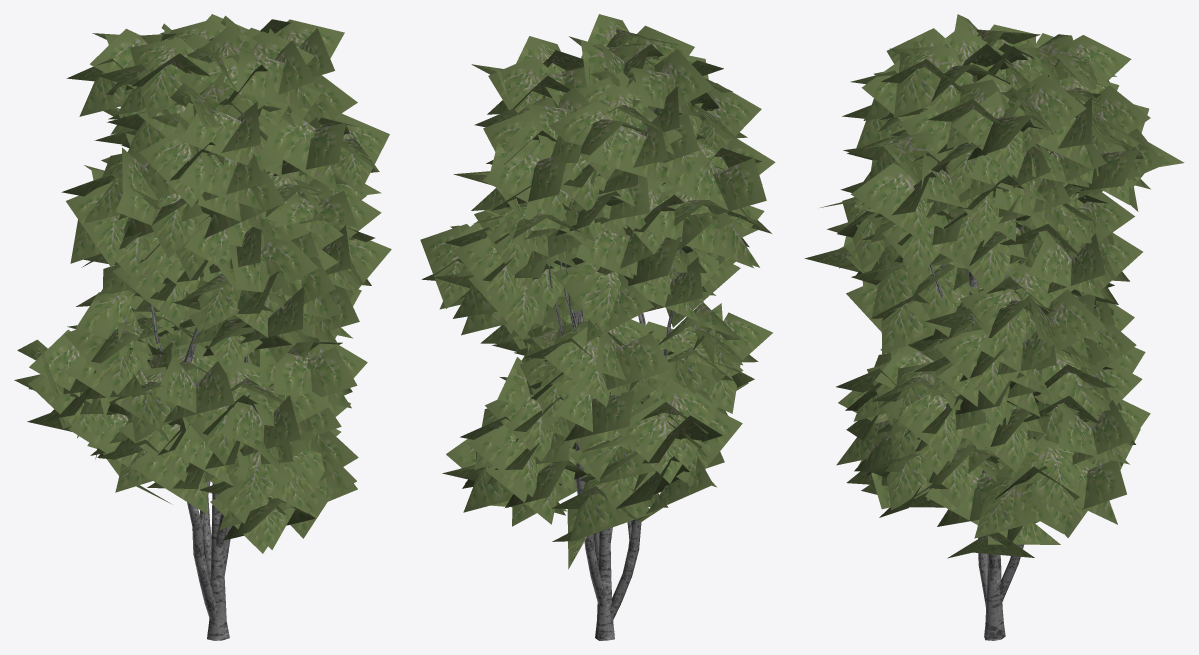
Rendered from Betula_Papyrifera_Spring_Adult.glb.
The picture shows the model from 3 angles, left to right: view 1: azimuth 30°, elevation 25°; view 2: azimuth 150°, elevation 25°; view 3: azimuth 270°, elevation 25°; orthographic projection. The views are drawn at different scales.
Parts seen in each view (by area): view 1: Betula_Papyrifera_Spring_Adult__LOD3; view 2: Betula_Papyrifera_Spring_Adult__LOD3; view 3: Betula_Papyrifera_Spring_Adult__LOD3.
Boxes of the visible parts, x1,y1,x2,y2 form: Betula_Papyrifera_Spring_Adult__LOD3: (14,14,391,640); Betula_Papyrifera_Spring_Adult__LOD3: (420,14,775,640); Betula_Papyrifera_Spring_Adult__LOD3: (804,14,1184,640).
Bounding box in the file's own units: 12.72 × 22.45 × 12.97.
2 materials, 2 textured.
